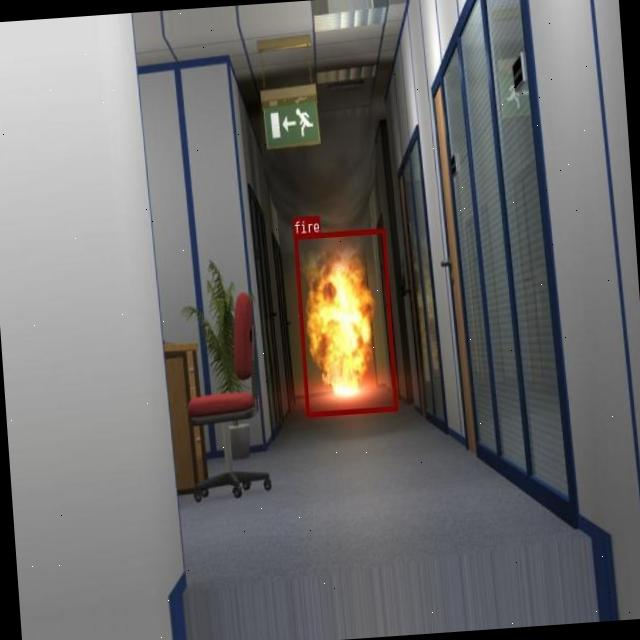fire: (293, 228, 396, 416)
